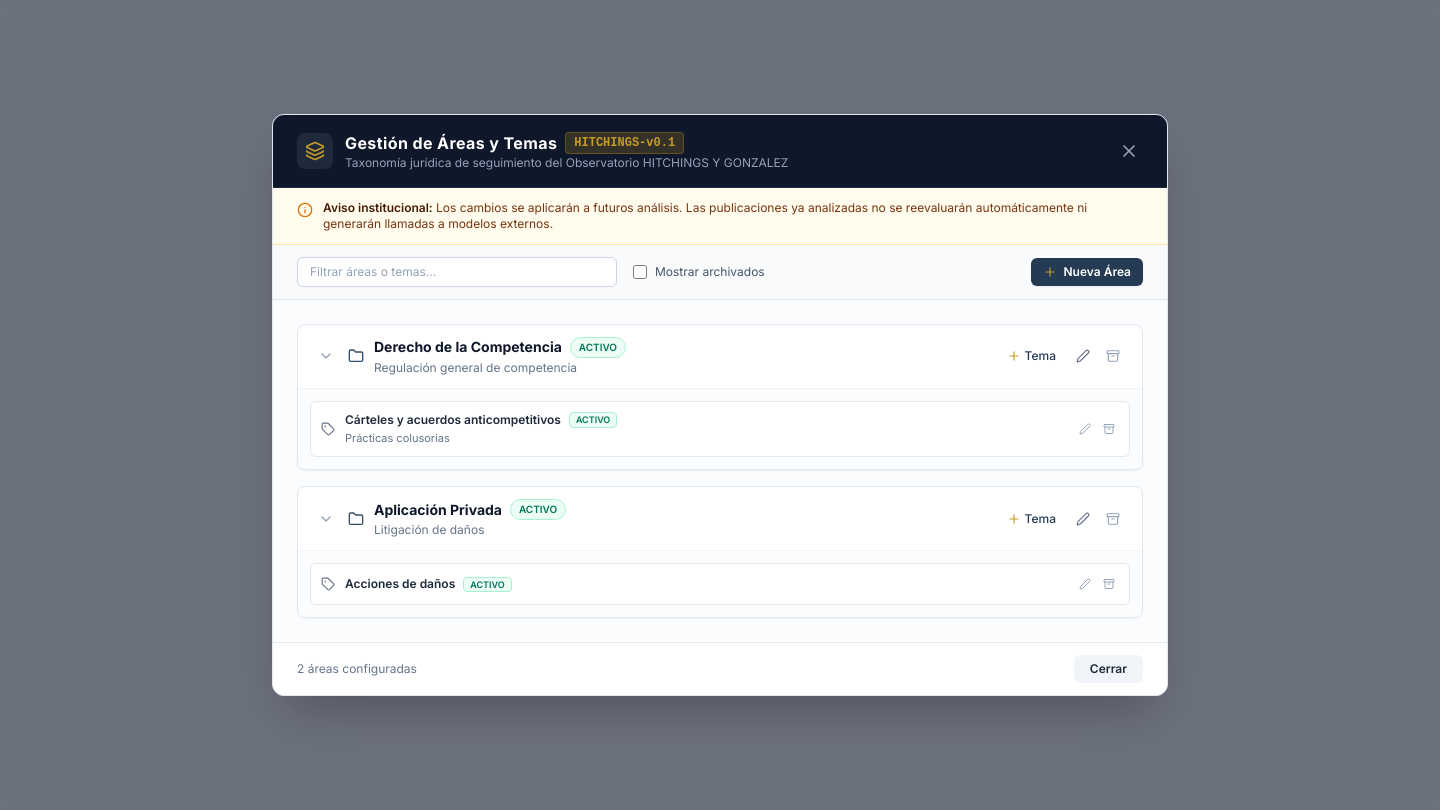
Test: Editable Taxonomy Management (Bloque 11B) › allows searching and filtering areas and topics
The width and height of the screenshot is (1440, 810).
Expected: the text "Derecho de la Competencia" is shown, [374,337,562,357]
Type "daños" into the field with placeholder "Filtrar áreas o temas..." at x=457, y=272, box [297,257,617,287]
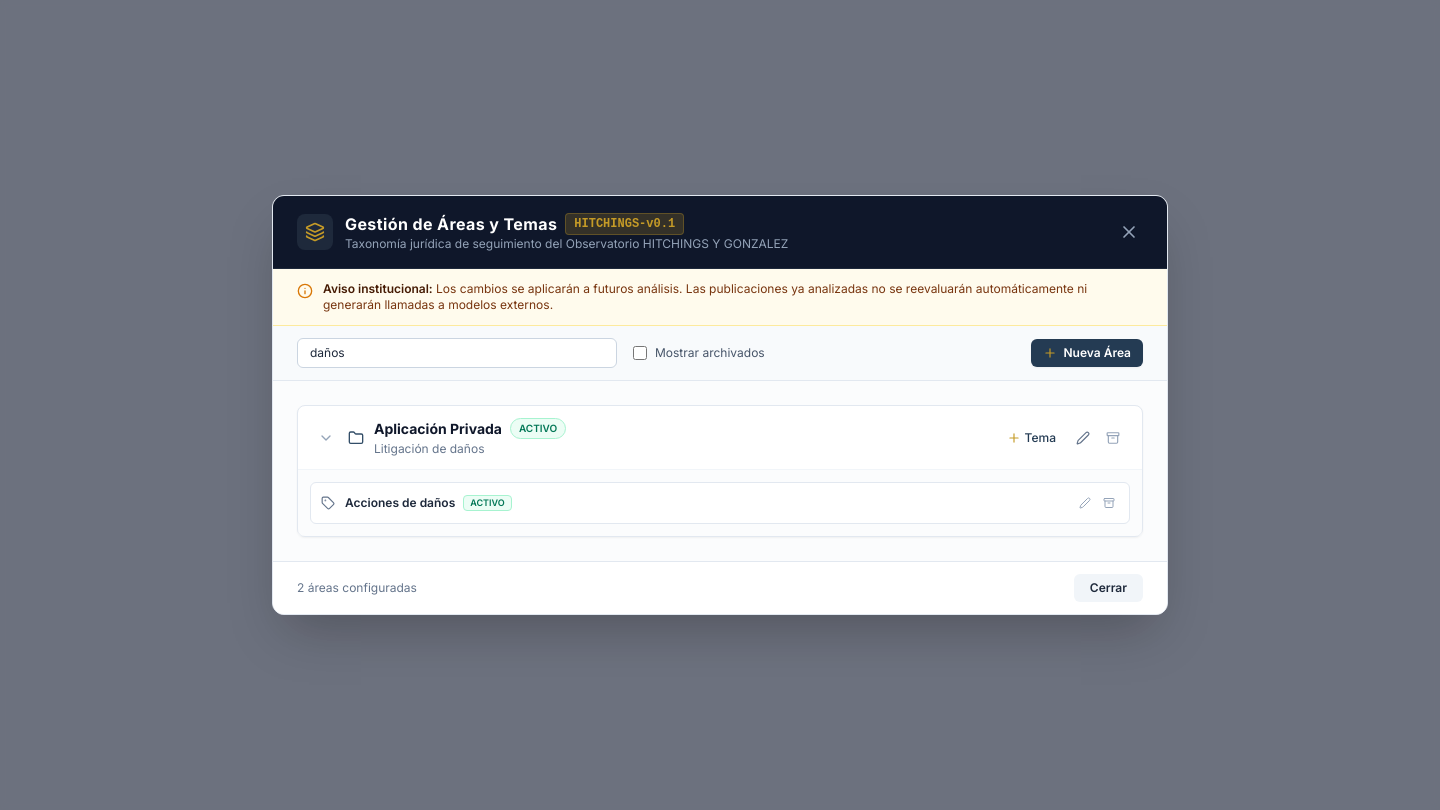
Expected: the text "Acciones de daños" is shown, [345,495,455,511]
Expected: the text "Cárteles y acuerdos anticompetitivos" is gone
